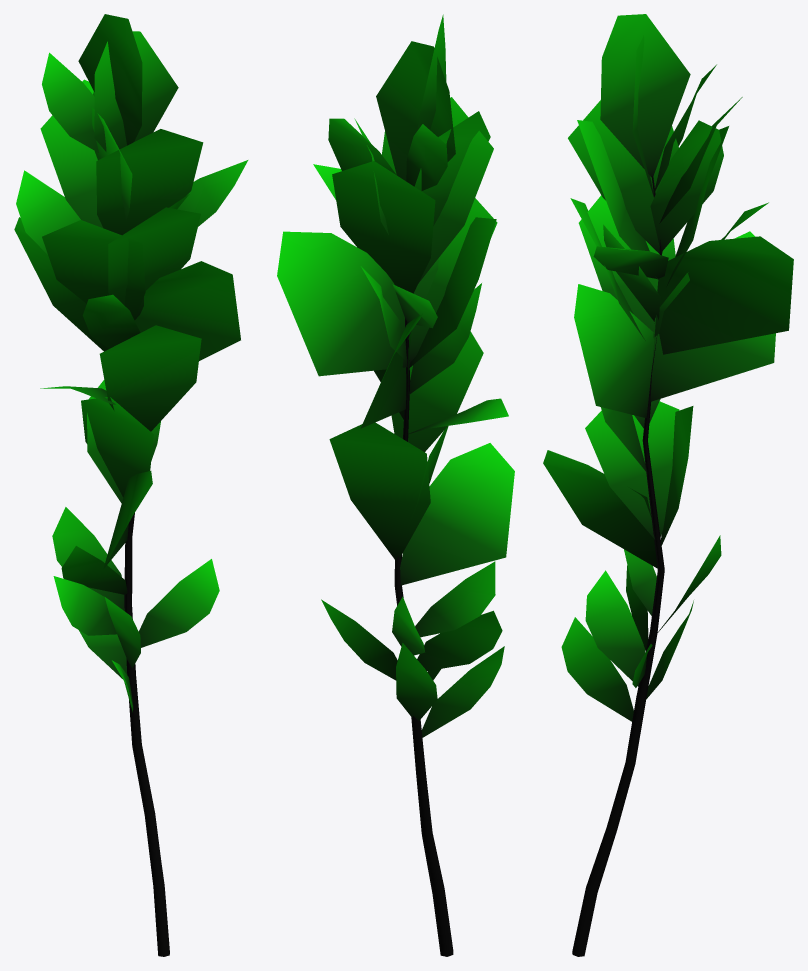
Rendered from Oak_Small_2.fbx.
3 renders of one model, left to right at view 1: azimuth 30°, elevation 25°; view 2: azimuth 150°, elevation 25°; view 3: azimuth 270°, elevation 25°, orthographic. The views are drawn at different scales.
Visible parts, largest first — view 1: Oak_Small_2; view 2: Oak_Small_2; view 3: Oak_Small_2.
Boxes of the visible parts, left/top/right/bottom form: Oak_Small_2: left=14, top=14, right=248, bottom=956; Oak_Small_2: left=277, top=14, right=514, bottom=956; Oak_Small_2: left=543, top=14, right=793, bottom=956.
Bounding box in the file's own units: 2.66 × 11.82 × 2.88.
